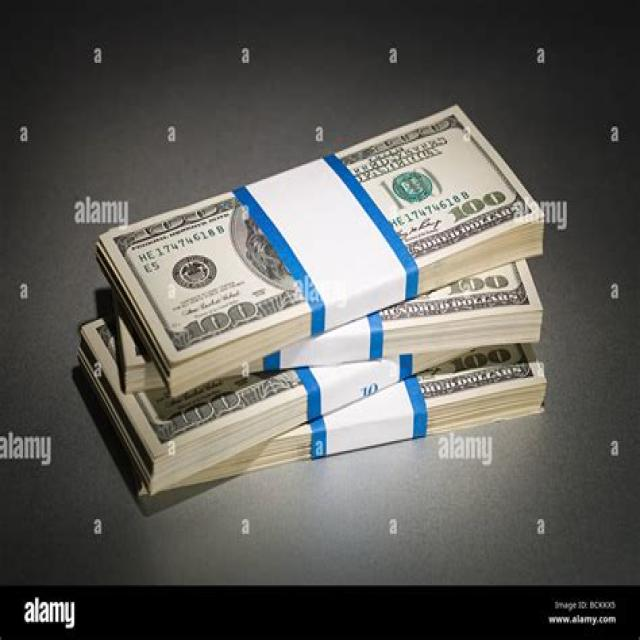Hundred: (116, 110, 538, 355)
